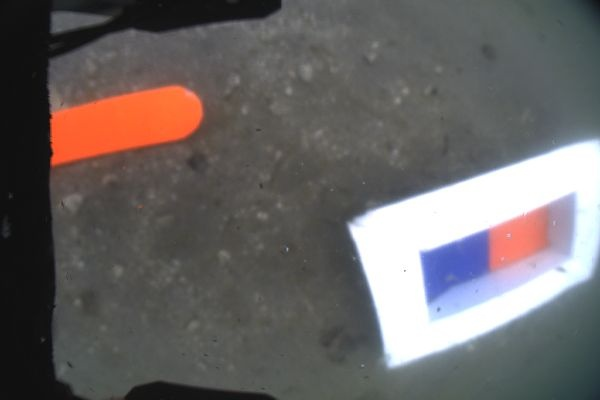bin: (348, 137, 600, 367)
bin_bleue: (420, 228, 488, 304)
bin_rouge: (488, 203, 550, 272)
path: (51, 85, 203, 167)
